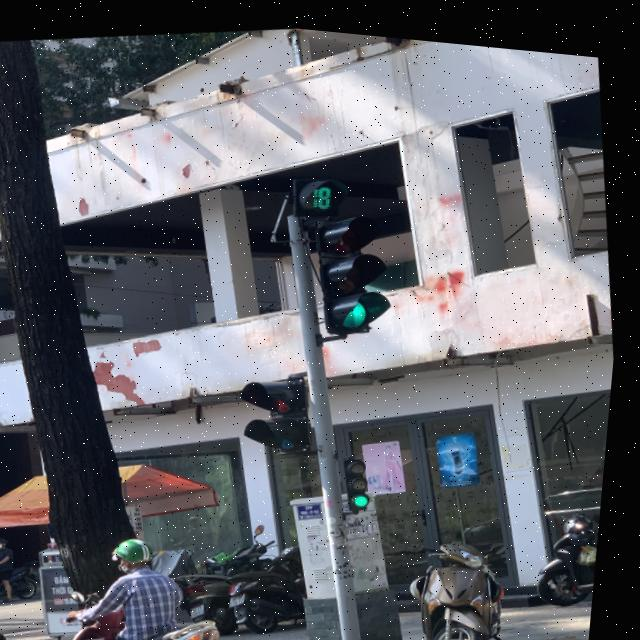Green: (288, 203, 403, 341), (344, 439, 392, 512)
